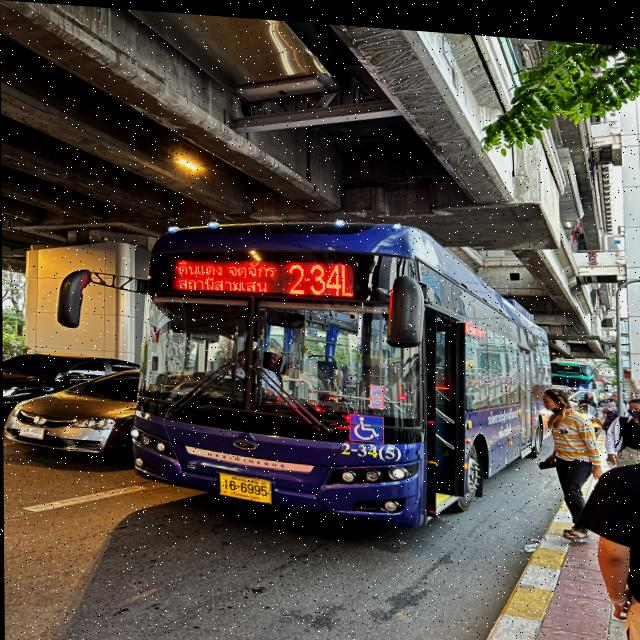Bus Line Number: (283, 255, 360, 295)
Bus Side Number: (331, 435, 403, 458)
Destination Sign: (171, 253, 280, 292)
TSB-Bus: (120, 190, 558, 537)
